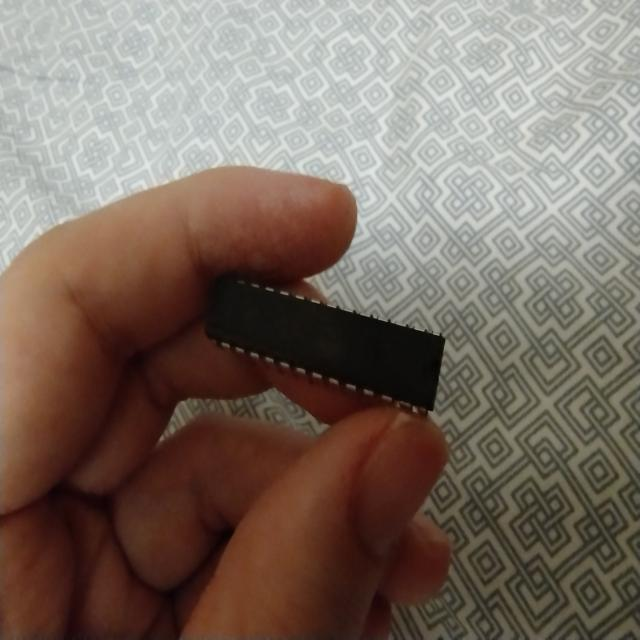atmega: (202, 269, 448, 418)
